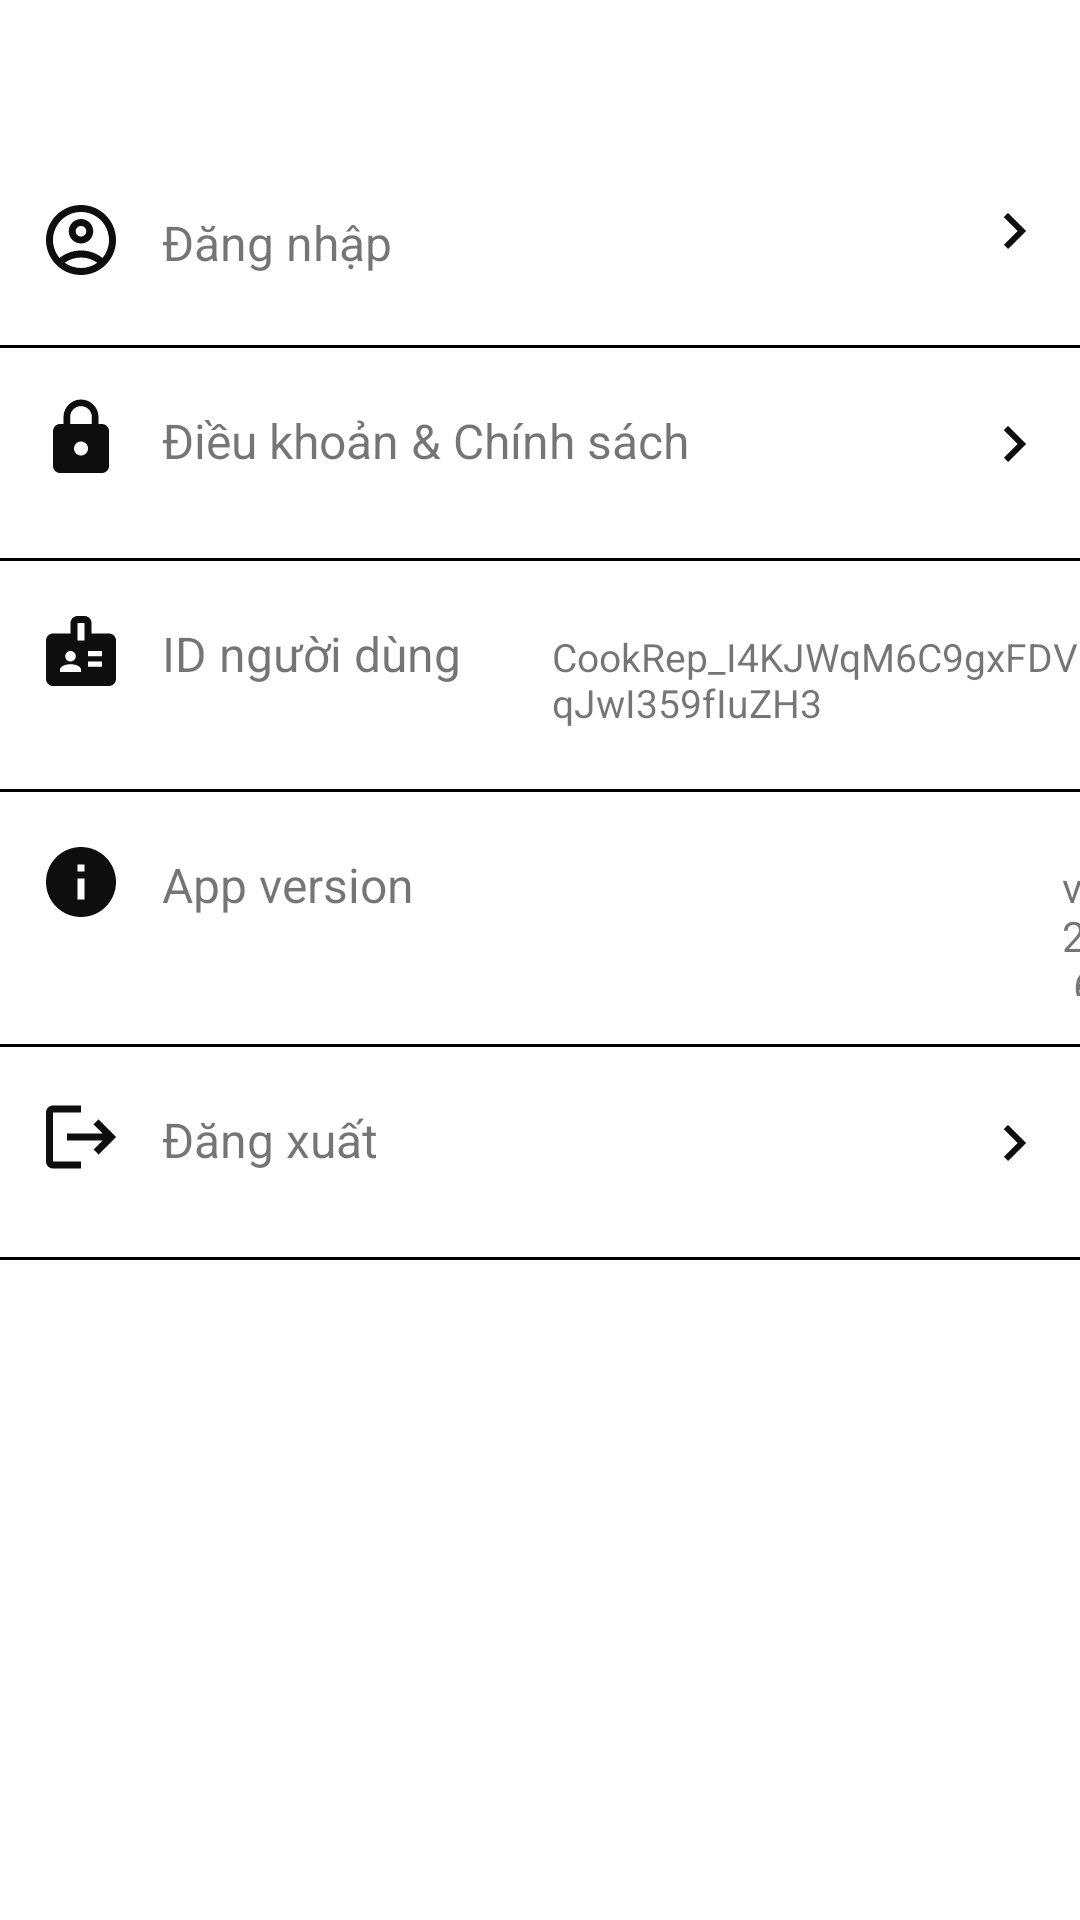

Named icons in this screenshot (1080w x 1920h) and their bounding boxes, bbox=[x1, y1, x2, y2]:
account circle: bbox=[46, 205, 116, 275]
badge: bbox=[46, 616, 116, 686]
info: bbox=[46, 847, 116, 917]
keyboard arrow right: bbox=[1004, 213, 1026, 249], bbox=[1004, 426, 1026, 462], bbox=[1004, 1125, 1026, 1161]
lock: bbox=[53, 399, 109, 473]
